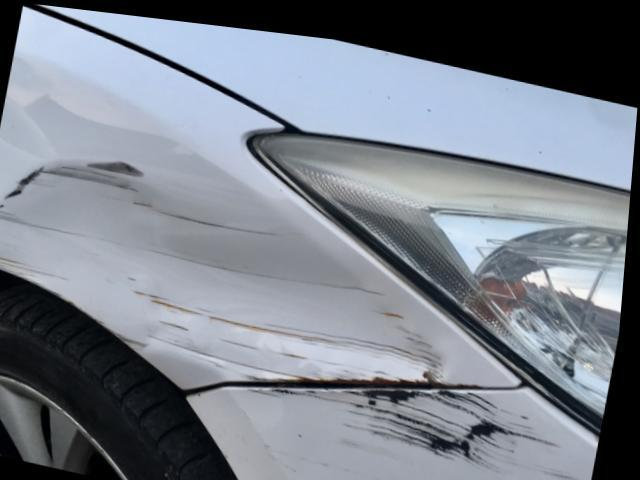dent: (0, 153, 453, 374)
scratch: (351, 372, 596, 480)
